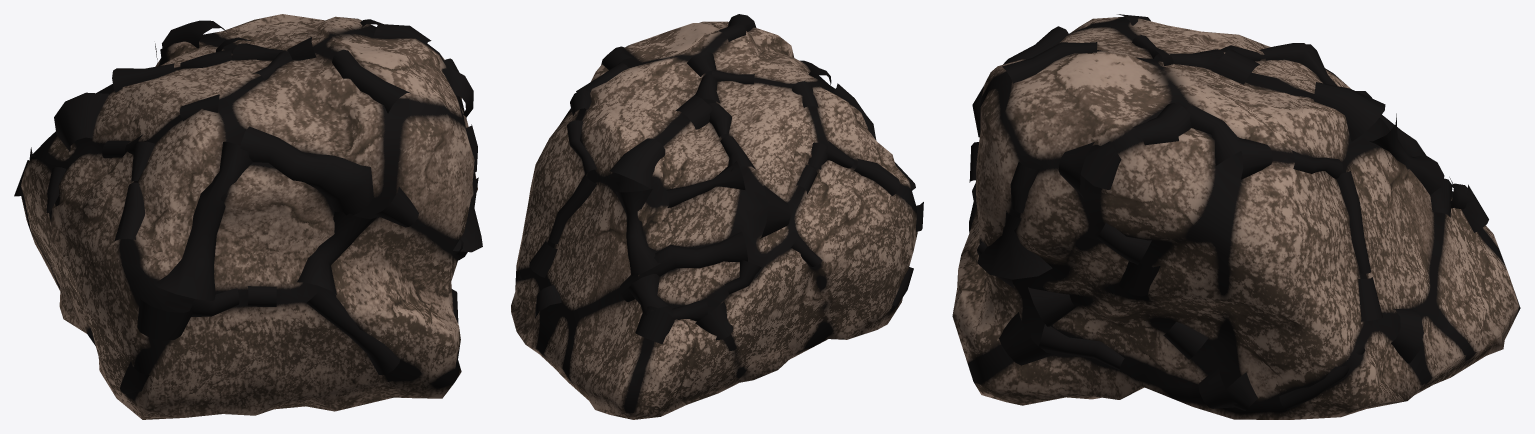
The model's file is mm8_deco_rock62.glb.
3 views of the same model, side by side, from view 1: azimuth 30°, elevation 25°; view 2: azimuth 150°, elevation 25°; view 3: azimuth 270°, elevation 25° (orthographic). The views are drawn at different scales.
Visible parts, largest first — view 1: Rock62; view 2: Rock62; view 3: Rock62.
Boxes of the visible parts, x1,y1,x2,y2 form: Rock62: (14, 14, 482, 419); Rock62: (511, 14, 923, 419); Rock62: (952, 14, 1520, 419).
Size of the model in its own units: 1.5 by 1.23 by 1.89.
2 materials, 1 textured.
